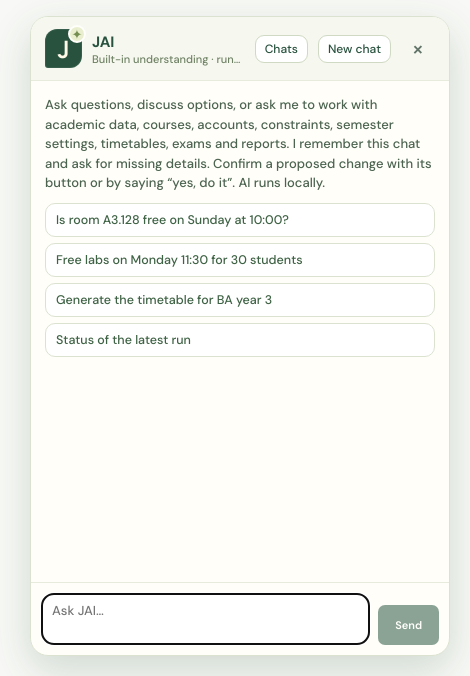
Test case: unrecognised text goes to the local model in the same chat
The image size is (470, 676).
In the text box named "Message to JAI": x=206, y=619 [41,593,370,645], type "anything on in the big hall sunday nine?"
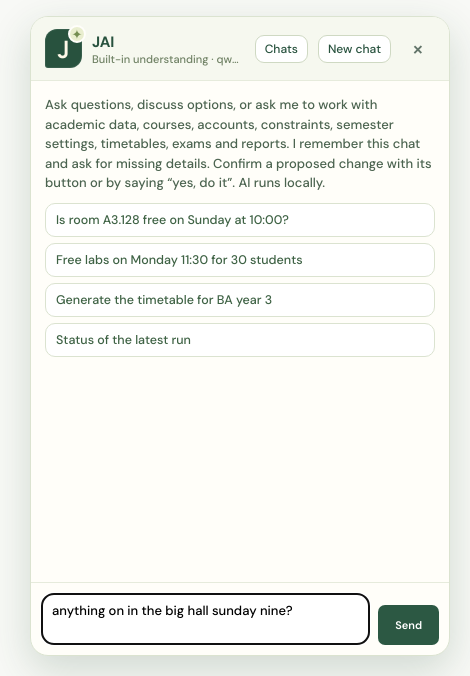
Click the button "Send": x=409, y=625 [378,605,439,645]
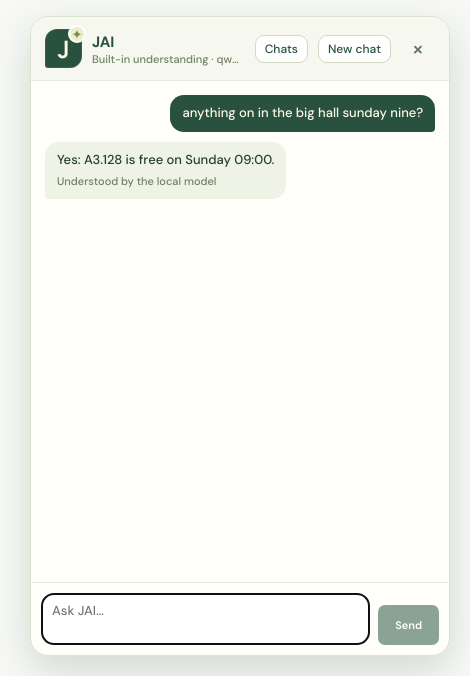
Expected: the text "Yes: A3.128 is free on Sunday 09:00." is shown, [57,151,274,170]
Expected: the text "Understood by the local model" is shown, [57,174,216,188]
